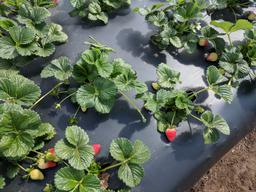green strawberry: (37, 156, 57, 168), (29, 168, 45, 181), (206, 52, 218, 61), (198, 37, 208, 47), (151, 82, 160, 90)
red strawberry: (165, 127, 176, 142), (89, 143, 101, 155)
